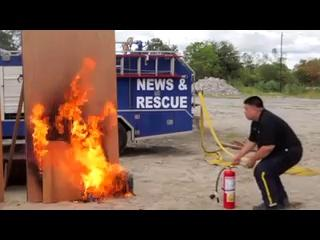Fire: (33, 58, 134, 202)
